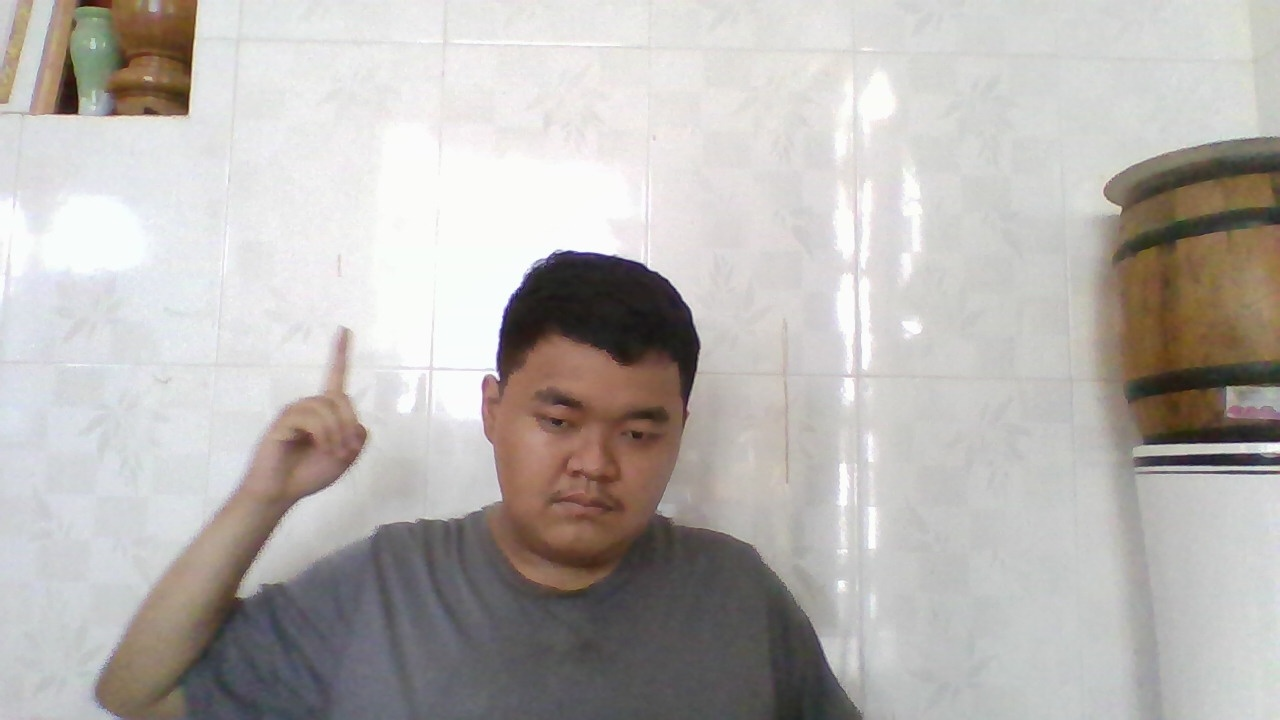D: (264, 319, 374, 512)
